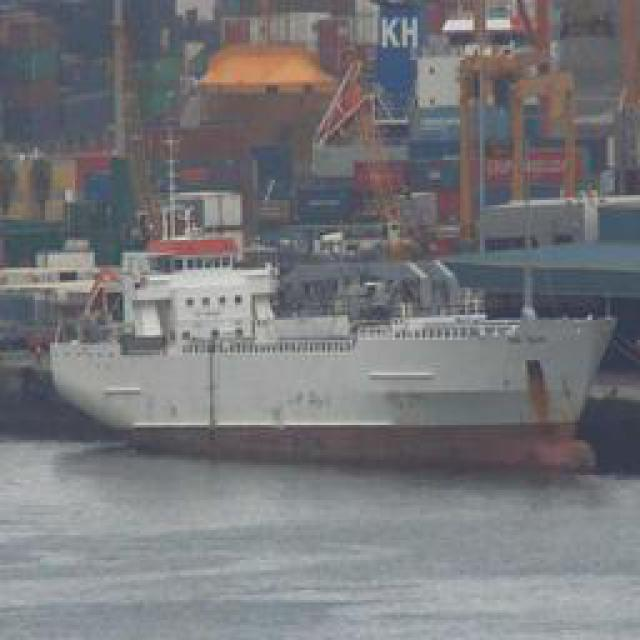Ship: (40, 194, 630, 459)
